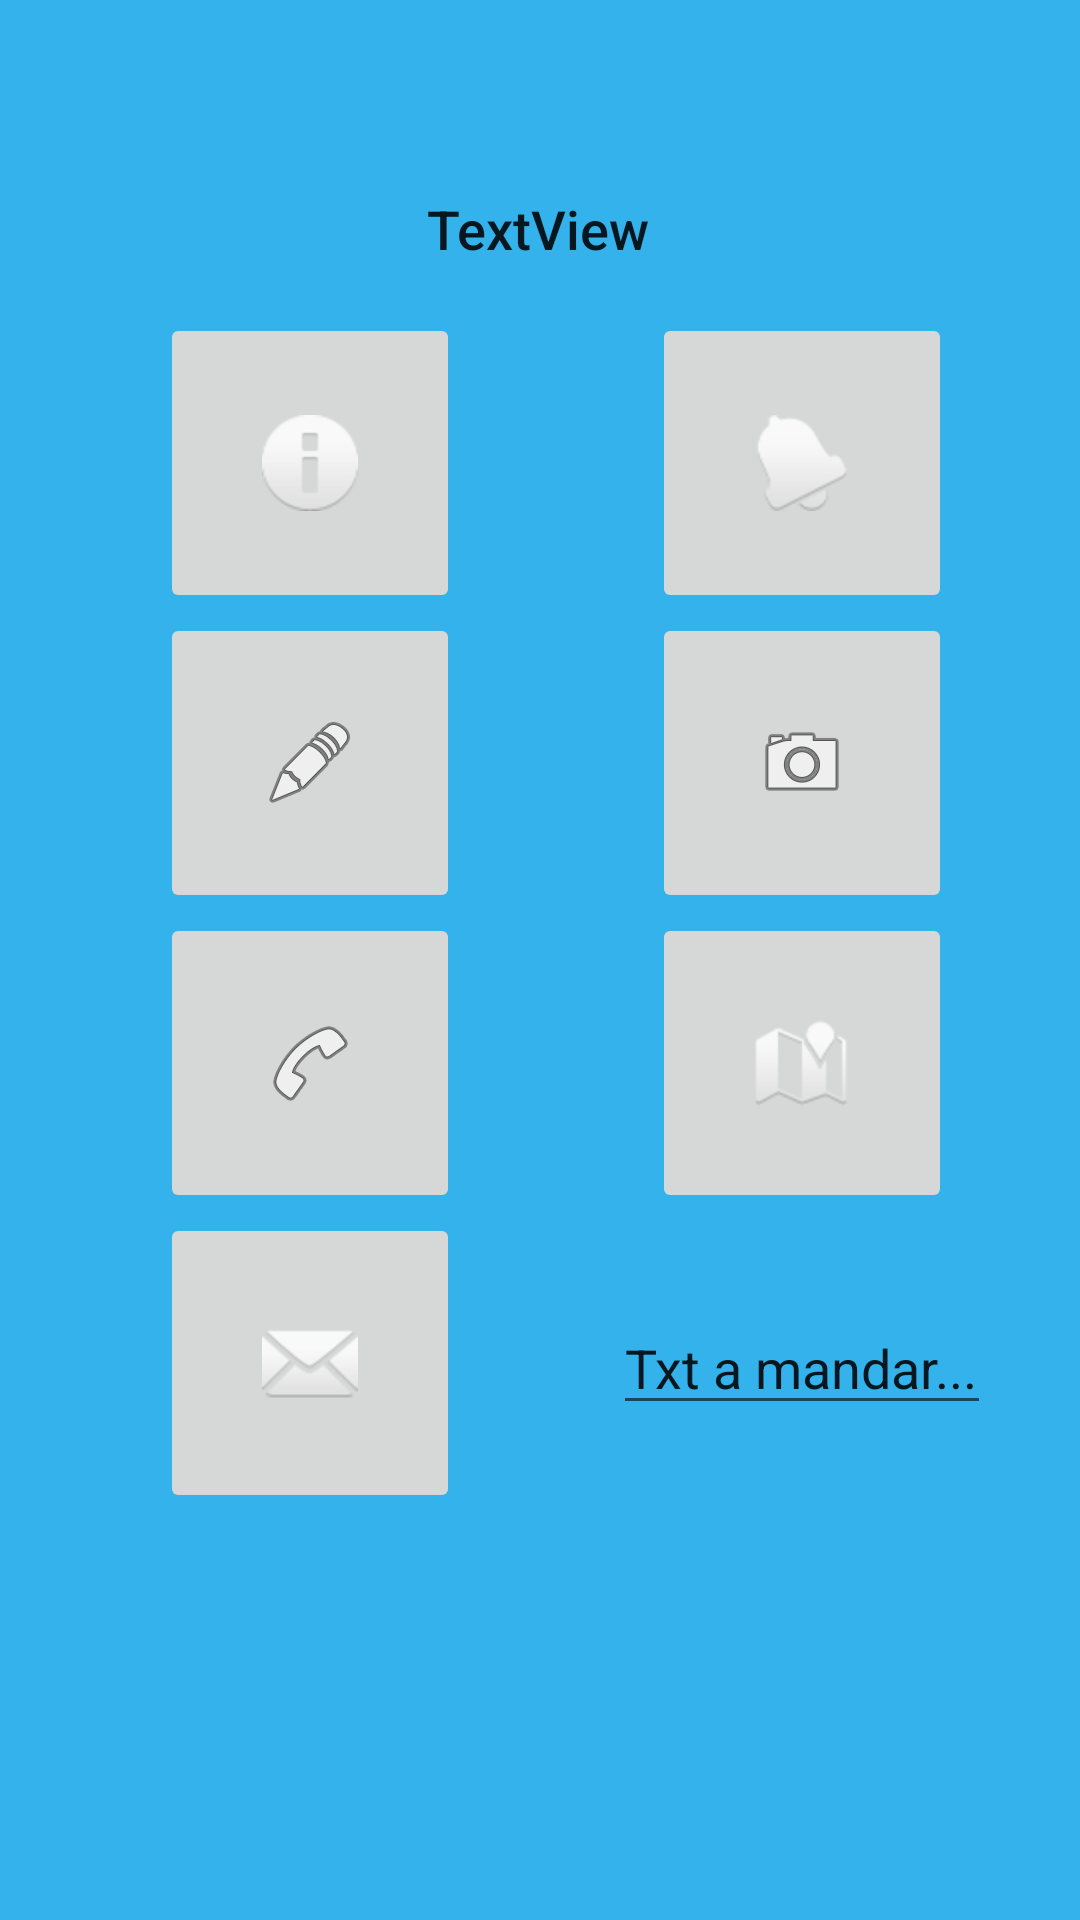

Named icons in this screenshot (1080 × 1920) and their centers, (x=x, y=y):
call: (x=310, y=1063)
camera: (x=802, y=763)
edit: (x=310, y=763)
email: (x=310, y=1363)
info: (x=310, y=463)
map: (x=802, y=1063)
popup reminder: (x=802, y=463)
